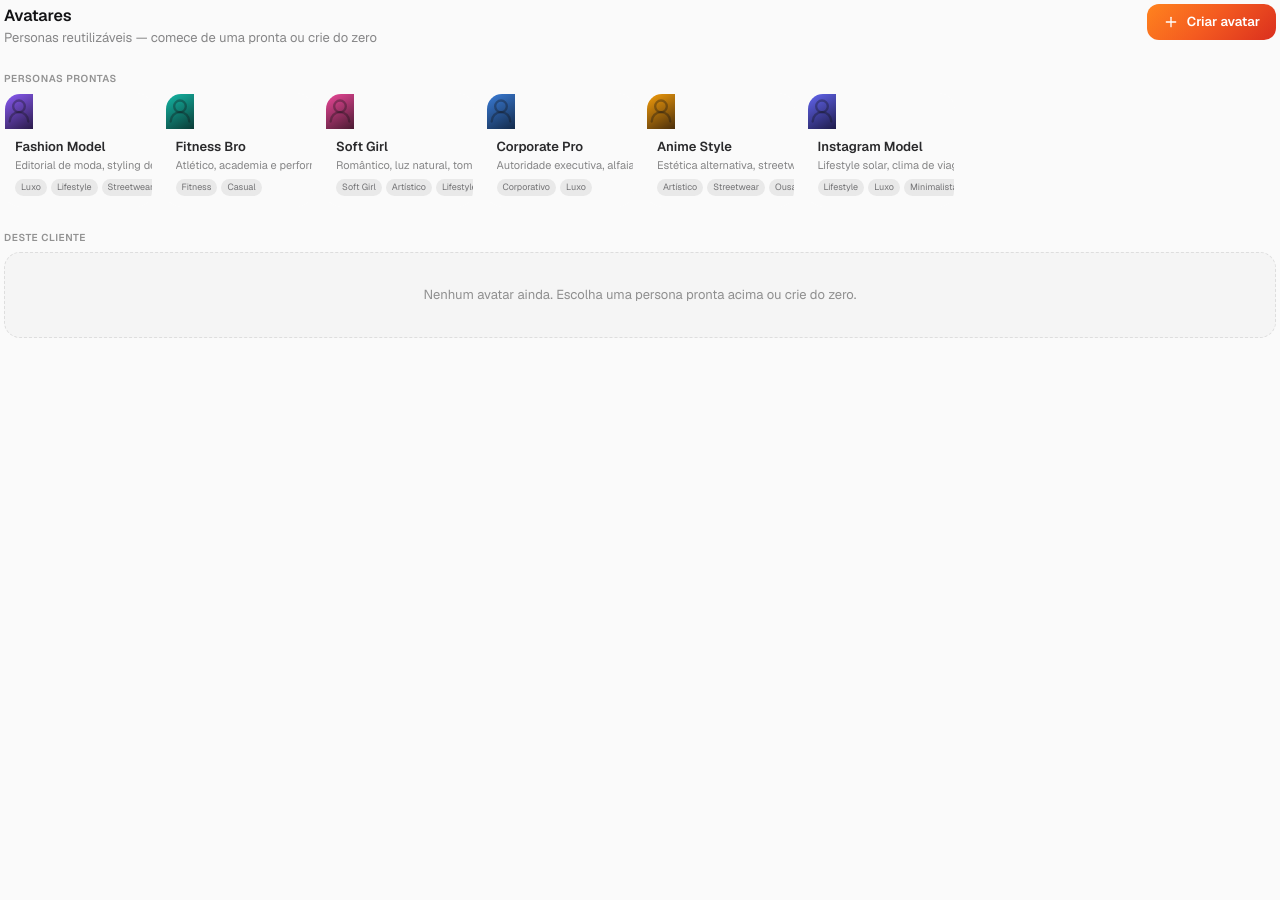
Test case: AvatarStudio › "Criar avatar" abre o customizador em branco
Click the button "Criar avatar": {"x": 1211, "y": 22} [1147, 4, 1276, 40]
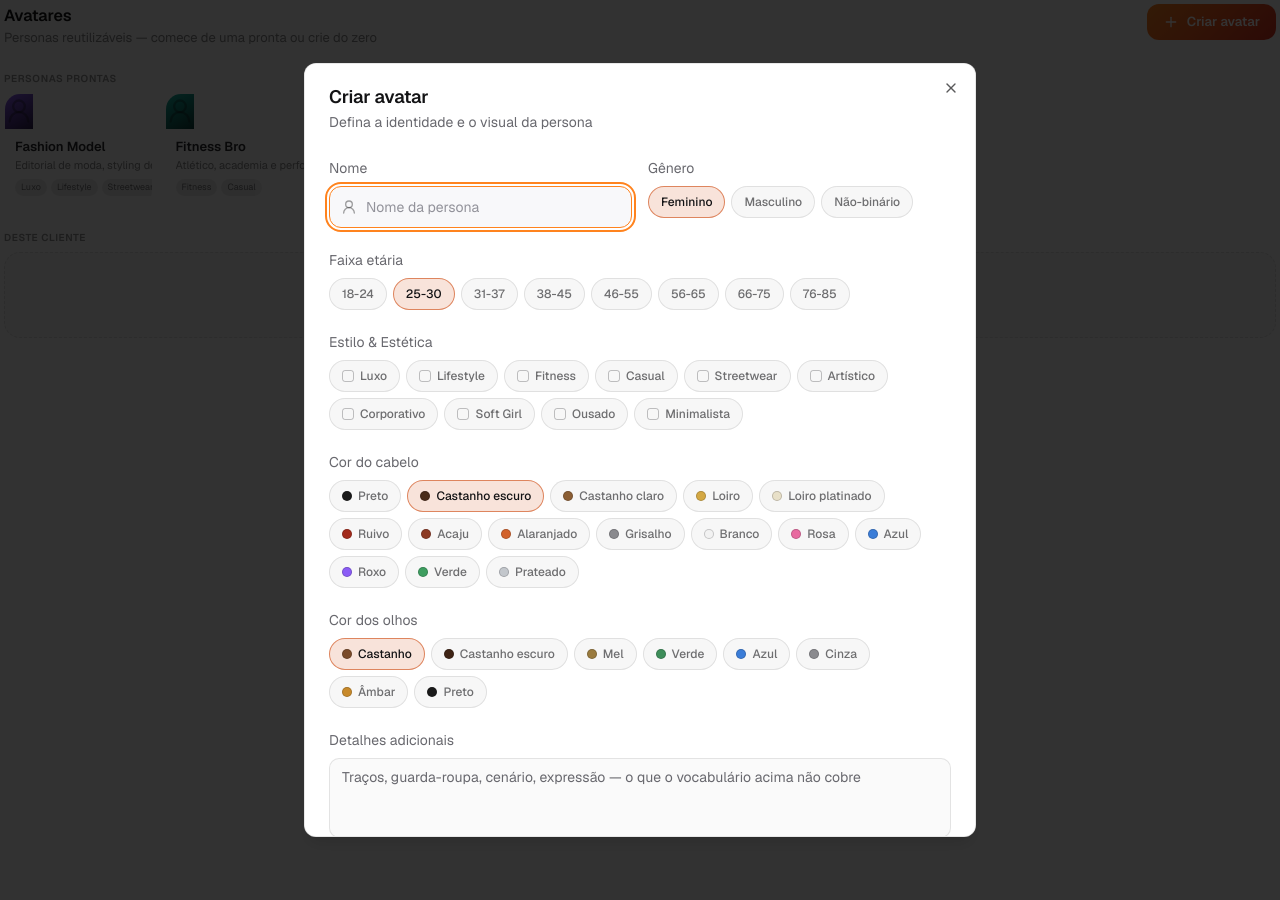
Now the field with placeholder "Nome da persona" is empty, box [329, 186, 632, 228]
